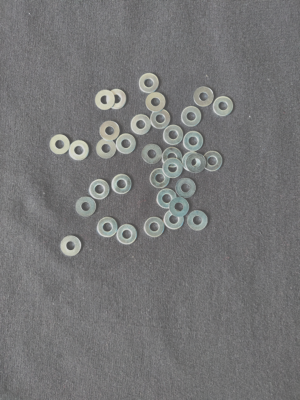circle: (187, 210, 209, 232), (213, 96, 235, 117), (181, 106, 203, 127), (183, 131, 205, 152), (116, 225, 138, 246), (60, 235, 81, 257), (194, 86, 215, 107), (176, 178, 197, 199), (150, 168, 171, 189), (163, 125, 184, 146), (139, 73, 160, 94), (151, 109, 172, 130), (131, 114, 152, 135), (95, 90, 116, 111), (50, 134, 71, 155), (112, 174, 133, 195), (182, 152, 204, 172), (203, 151, 223, 172), (164, 210, 185, 230), (144, 217, 165, 237), (157, 189, 177, 210), (142, 145, 163, 165), (162, 148, 183, 168), (106, 90, 127, 110), (116, 134, 137, 154), (99, 121, 120, 141), (69, 141, 90, 161), (98, 217, 118, 238), (76, 197, 97, 217), (90, 179, 110, 200), (170, 198, 190, 218), (186, 153, 206, 173), (163, 159, 183, 179), (145, 93, 166, 112), (97, 139, 116, 159)
